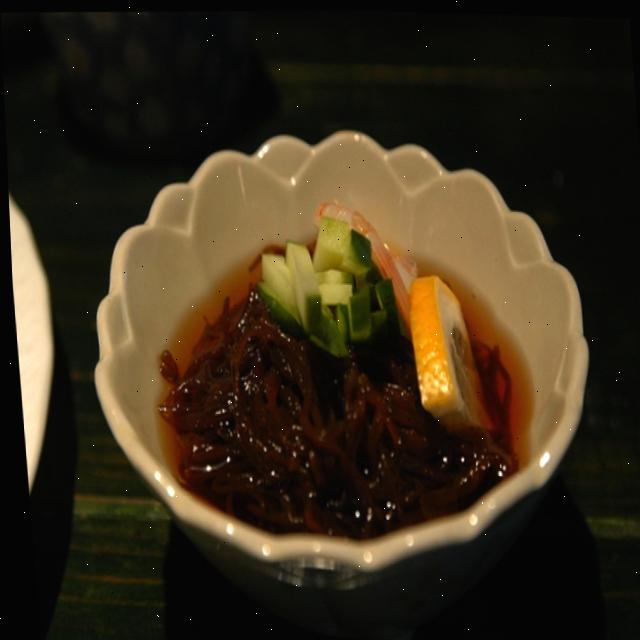蔬菜料理: (58, 87, 631, 609)
